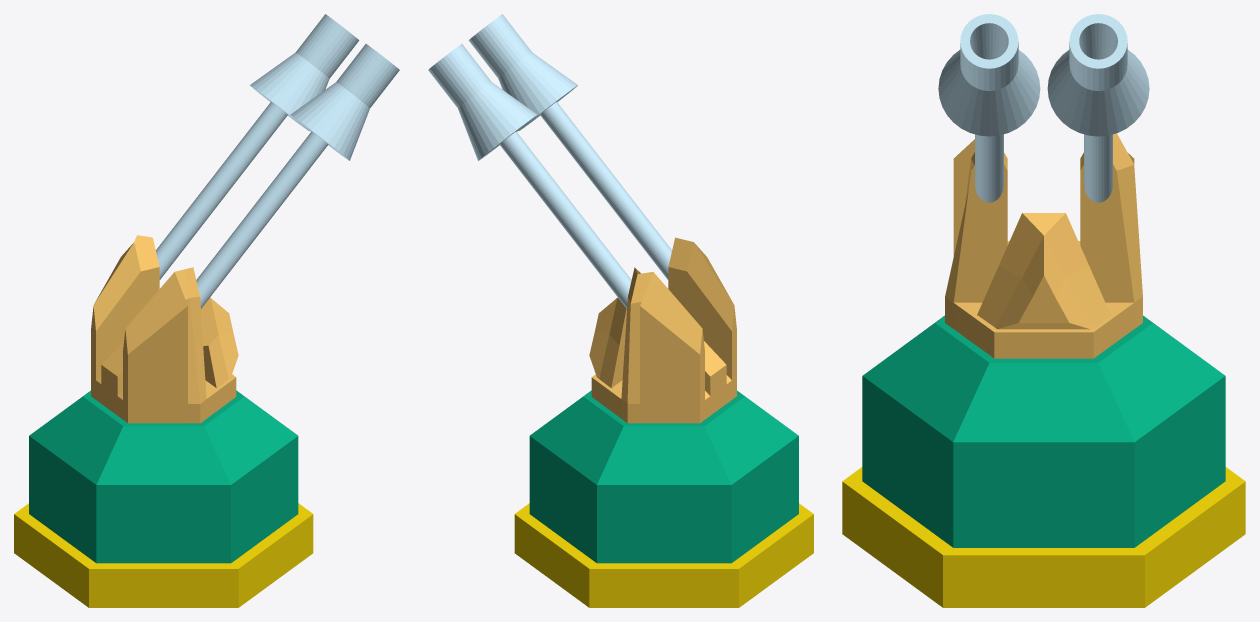
The model's file is SeaCannon.dae.
The picture shows the model from 3 angles, left to right: view 1: azimuth 30°, elevation 25°; view 2: azimuth 150°, elevation 25°; view 3: azimuth 270°, elevation 25°; orthographic projection. The views are drawn at different scales.
Parts seen in each view (by area): view 1: Cylinder, Cube.007; view 2: Cylinder, Cube.007; view 3: Cylinder, Cube.007.
Part boxes in pixels (x1,y1,x2,y2): Cylinder: (14,390,313,607); Cube.007: (91,14,399,423); Cylinder: (514,390,813,607); Cube.007: (428,14,736,423); Cylinder: (842,315,1245,607); Cube.007: (938,14,1149,358).
Size of the model in its own units: 8.67 by 6.93 by 12.17.
